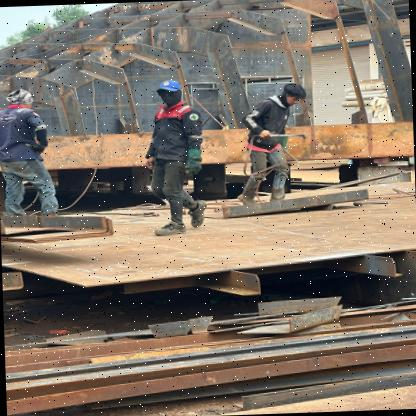bota: (187, 198, 208, 229), (154, 221, 187, 237), (238, 186, 260, 206)
